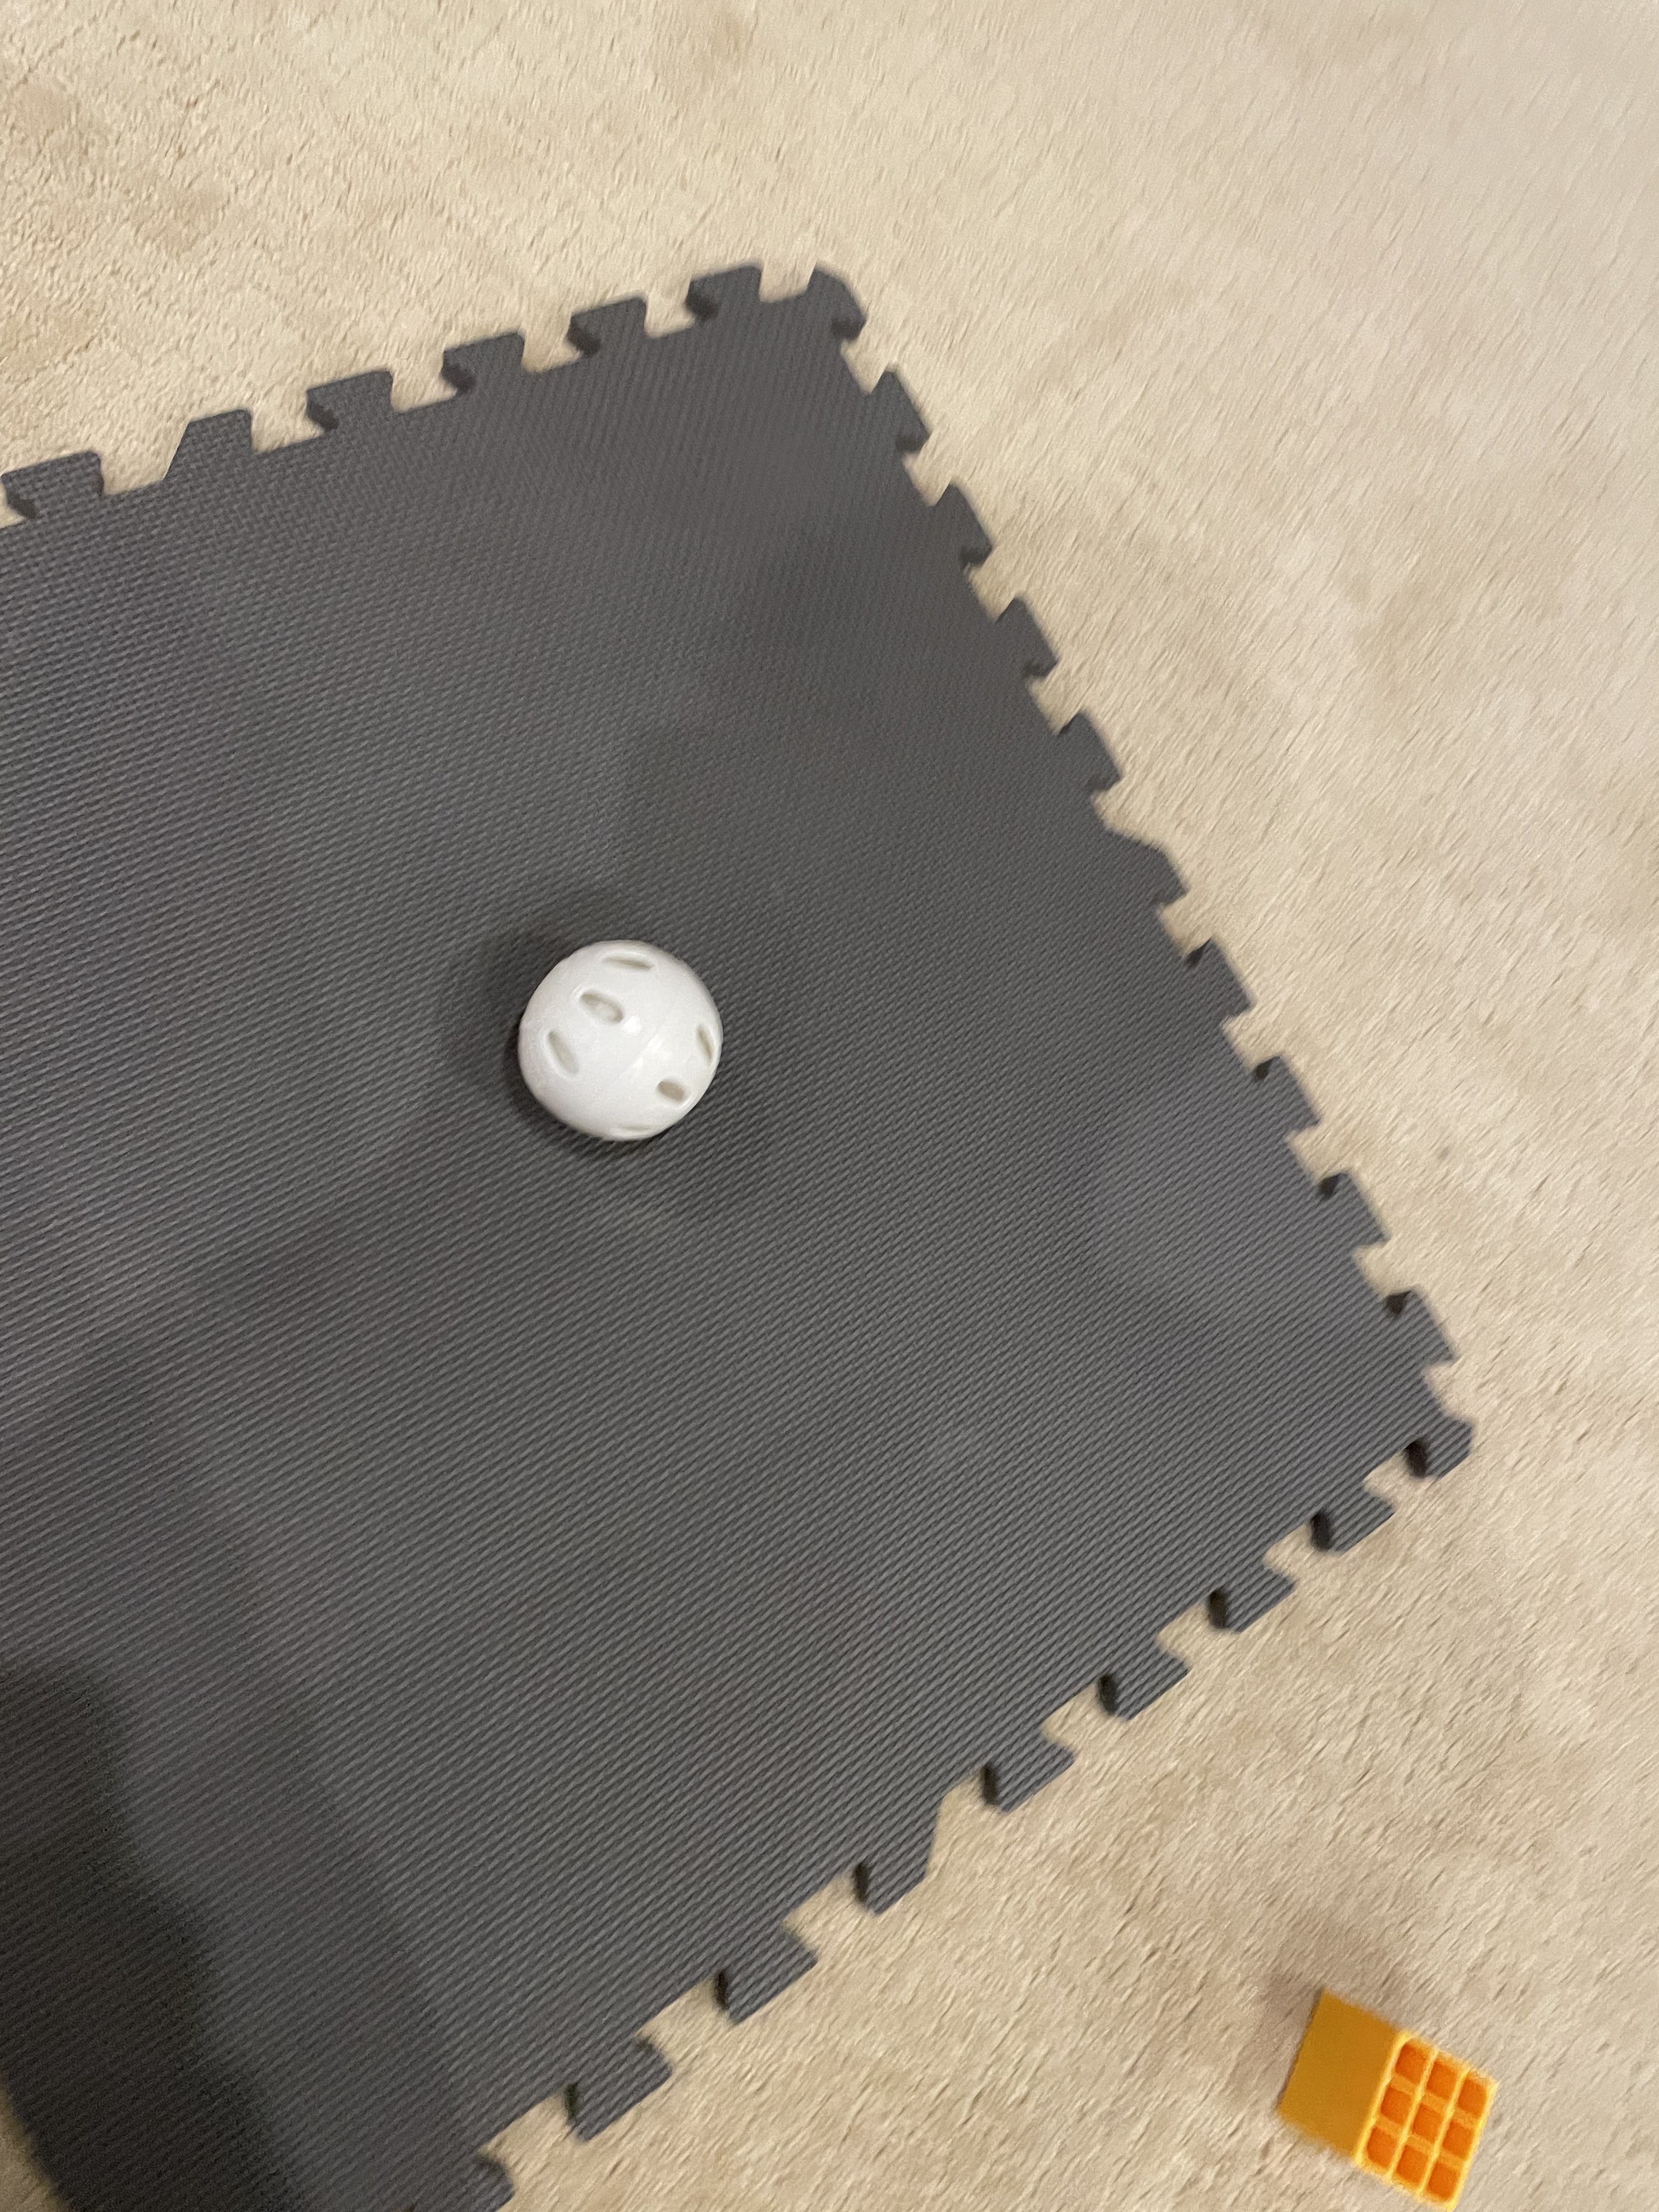ball: (481, 900, 756, 1174)
